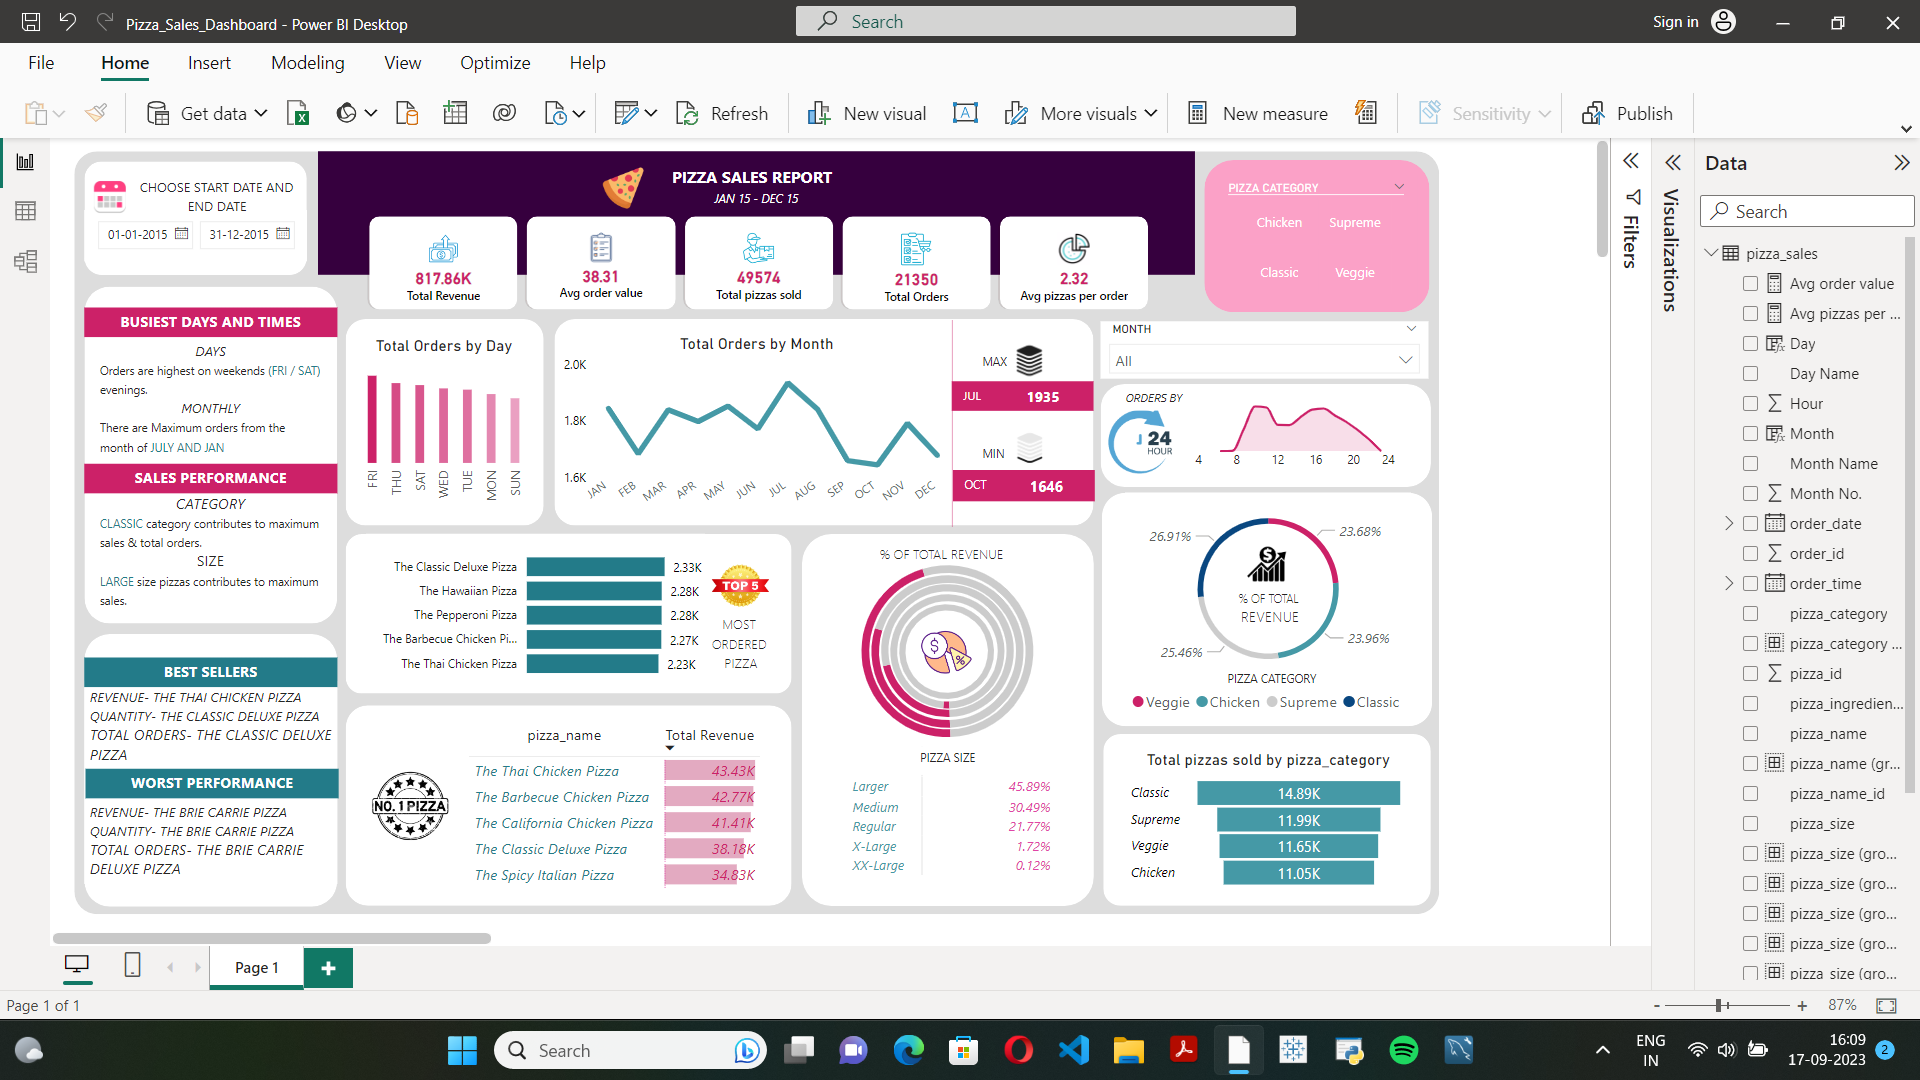

Layout of this report page (visuals, bound fields, positions):
{"tool":"powerbi","page":{"name":"Page 1","canvas":[5000,5000],"ordinal":0},"visuals":[{"type":"shape","box":[23.2,24.8,1255,701.2],"z":0},{"type":"shape","box":[246.9,24.8,806.2,113.8],"z":1000},{"type":"cardVisual","fields":{"Data":["pizza_sales.Total Revenue","pizza_sales.Avg order value","pizza_sales.Total pizzas sold","pizza_sales.Total Orders","pizza_sales.Avg pizzas per order"]},"box":[291.7,82.8,725,90],"z":2000},{"type":"textbox","box":[246.7,32.8,806.2,48.8],"z":3000},{"type":"shape","box":[271.9,179.8,182.5,190],"z":4000},{"type":"ribbonChart","fields":{"Y":["pizza_sales.Total Orders"],"Category":["pizza_sales.Day"]},"box":[279.4,194.8,167.5,161.2],"z":5000},{"type":"shape","box":[464.4,179.8,496.2,190],"z":6000},{"type":"lineChart","title":"Total Orders by Month","fields":{"Category":["pizza_sales.Month"],"Y":["pizza_sales.Total Orders"]},"box":[471.9,193.6,357.5,161.2],"z":7000},{"type":"textbox","box":[853.2,203.6,47.5,32.5],"z":8000},{"type":"textbox","box":[853.2,288.6,46.2,37.5],"z":9000},{"type":"image","box":[880.7,277.3,42.5,43.8],"z":10000},{"type":"image","box":[879.4,196.1,42.5,43.8],"z":11000},{"type":"shape","box":[807.9,181,44.5,190],"z":12000},{"type":"funnel","title":"Total Orders by Month","fields":{"Category":["pizza_sales.Month"],"Y":["pizza_sales.Total Orders"]},"box":[830.4,236.6,130,27.5],"z":13000},{"type":"funnel","title":"Total Orders by Month","fields":{"Category":["pizza_sales.Month"],"Y":["pizza_sales.Total Orders"]},"box":[830.7,318.6,130,28.8],"z":14000},{"type":"shape","box":[967,239.3,303.8,95],"z":15000},{"type":"textbox","box":[1021.2,299.1,241,20],"z":16000},{"type":"stackedAreaChart","fields":{"Category":["pizza_sales.Hour"],"Y":["pizza_sales.Total Orders"]},"box":[1021.2,245.9,250,60.6],"z":17000},{"type":"image","box":[967.1,234.3,71.4,112.9],"z":18000},{"type":"textbox","box":[979.3,241,72.5,22.5],"z":19000},{"type":"shape","box":[967.9,339.4,303.8,215],"z":20000},{"type":"donutChart","title":"Total Revenue","fields":{"Y":["pizza_sales.Total Revenue"],"Category":["pizza_sales.pizza_category"]},"box":[989.4,338.9,262.5,206.2],"z":21000},{"type":"textbox","box":[1078.2,500.1,105,18.8],"z":22000},{"type":"textbox","box":[1061.9,426.4,121.2,55],"z":23000},{"type":"shape","box":[691.9,377.3,268.8,342],"z":24000},{"type":"donutChart","title":"Total Revenue","fields":{"Y":["pizza_sales.Total Revenue"],"Category":["pizza_sales.pizza_size (groups) 4"]},"box":[701.9,386.1,247.5,197.5],"z":25000},{"type":"donutChart","title":"Total Revenue","fields":{"Y":["pizza_sales.Total Revenue"],"Series":["pizza_sales.pizza_size (groups) 5"]},"box":[700.7,397.3,250,175],"z":26000},{"type":"donutChart","title":"Total Revenue","fields":{"Y":["pizza_sales.Total Revenue"],"Category":["pizza_sales.pizza_size (groups) 2"]},"box":[700.7,408.6,250,152.5],"z":27000},{"type":"donutChart","title":"Total Revenue","fields":{"Y":["pizza_sales.Total Revenue"],"Category":["pizza_sales.pizza_size (groups) 3"]},"box":[701.9,419.8,247.5,131.2],"z":28000},{"type":"tableEx","fields":{"Values":["pizza_sales.pizza_size","pizza_sales.Total Revenue"]},"box":[713.2,572.3,236.2,126.2],"z":29000},{"type":"donutChart","title":"Total Revenue","fields":{"Y":["pizza_sales.Total Revenue"],"Category":["pizza_sales.pizza_size (groups) 6"],"Series":["pizza_sales.pizza_size"]},"box":[690.7,431.1,268.8,108.8],"z":30000},{"type":"textbox","box":[701.9,572.3,247.5,26.2],"z":31000},{"type":"textbox","box":[744.4,386.1,151.2,33.8],"z":32000},{"type":"shape","box":[968.6,561.4,301.4,158.6],"z":33000},{"type":"funnel","fields":{"Category":["pizza_sales.pizza_category"],"Y":["pizza_sales.Total pizzas sold"]},"box":[990,572.9,262.9,134.3],"z":34000},{"type":"shape","box":[271.9,377.3,410,147.5],"z":35000},{"type":"barChart","title":"TOP 05 Most ordered pizza","fields":{"Category":["pizza_sales.pizza_name"],"Y":["pizza_sales.Total Orders"]},"box":[291.9,377.3,310,137.5],"z":36000},{"type":"image","box":[1073.2,383.9,92.5,43.8],"z":37000},{"type":"image","box":[794.4,458.6,61.2,56.2],"z":38000},{"type":"textbox","box":[601.9,451.1,67.5,73.8],"z":39000},{"type":"image","box":[601.9,397.3,67.5,53.8],"z":40000},{"type":"shape","box":[271.9,534.8,410,185],"z":41000},{"type":"tableEx","fields":{"Values":["pizza_sales.pizza_name","pizza_sales.Total Revenue"]},"box":[385.4,540.3,283.8,167.5],"z":42000},{"type":"image","box":[291.9,587.3,81.2,78.8],"z":43000},{"type":"shape","box":[31.7,149.1,232.5,310],"z":44000},{"type":"textbox","box":[41.7,194.1,213.8,256.2],"z":45000},{"type":"textbox","box":[31.7,312.8,232.5,27.5],"z":46000},{"type":"textbox","box":[31.7,169.1,232.5,27.5],"z":47000},{"type":"shape","box":[1061.7,32.8,207.5,140],"z":48000},{"type":"slicer","fields":{"Values":["pizza_sales.pizza_category"]},"box":[1071.7,46.6,187.5,116.2],"z":49000},{"type":"image","box":[495.4,34.1,65,48.8],"z":50000},{"type":"shape","box":[31.7,34.1,205,105],"z":51000},{"type":"slicer","fields":{"Values":["pizza_sales.order_date"]},"box":[31.7,79.1,205,47.5],"z":52000},{"type":"image","box":[31.7,46.6,46.2,40],"z":53000},{"type":"textbox","box":[77.9,47.8,152.5,40],"z":54000},{"type":"shape","box":[31.7,469.1,232.5,251.2],"z":55000},{"type":"textbox","box":[31.7,512.8,232.5,186.2],"z":56000},{"type":"textbox","box":[32.9,592.8,232.5,27.5],"z":57000},{"type":"textbox","box":[31.7,490.3,232.5,27.5],"z":58000},{"type":"slicer","fields":{"Values":["pizza_sales.Month"]},"box":[967.1,181.4,301.4,52.9],"z":58001}]}

Visuals, with their boxes on the page's 5000x5000 design canvas (x1, y1, x2, y2). These are canvas units, not pixel positions in the 1920x1080 screenshot, which may show the page scaled, cropped or inside an application window:
shape: crop(23, 25, 1278, 726)
shape: crop(247, 25, 1053, 139)
cardVisual - pizza_sales.Total Revenue x pizza_sales.Avg order value: crop(292, 83, 1017, 173)
textbox: crop(247, 33, 1053, 82)
shape: crop(272, 180, 454, 370)
ribbonChart - pizza_sales.Total Orders x pizza_sales.Day: crop(279, 195, 447, 356)
shape: crop(464, 180, 961, 370)
"Total Orders by Month" lineChart: crop(472, 194, 829, 355)
textbox: crop(853, 204, 901, 236)
textbox: crop(853, 289, 899, 326)
image: crop(881, 277, 923, 321)
image: crop(879, 196, 922, 240)
shape: crop(808, 181, 852, 371)
"Total Orders by Month" funnel: crop(830, 237, 960, 264)
"Total Orders by Month" funnel: crop(831, 319, 961, 347)
shape: crop(967, 239, 1271, 334)
textbox: crop(1021, 299, 1262, 319)
stackedAreaChart - pizza_sales.Hour x pizza_sales.Total Orders: crop(1021, 246, 1271, 306)
image: crop(967, 234, 1038, 347)
textbox: crop(979, 241, 1052, 264)
shape: crop(968, 339, 1272, 554)
"Total Revenue" donutChart: crop(989, 339, 1252, 545)
textbox: crop(1078, 500, 1183, 519)
textbox: crop(1062, 426, 1183, 481)
shape: crop(692, 377, 961, 719)
"Total Revenue" donutChart: crop(702, 386, 949, 584)
"Total Revenue" donutChart: crop(701, 397, 951, 572)
"Total Revenue" donutChart: crop(701, 409, 951, 561)
"Total Revenue" donutChart: crop(702, 420, 949, 551)
tableEx - pizza_sales.pizza_size x pizza_sales.Total Revenue: crop(713, 572, 949, 698)
"Total Revenue" donutChart: crop(691, 431, 960, 540)
textbox: crop(702, 572, 949, 598)
textbox: crop(744, 386, 896, 420)
shape: crop(969, 561, 1270, 720)
funnel - pizza_sales.pizza_category x pizza_sales.Total pizzas sold: crop(990, 573, 1253, 707)
shape: crop(272, 377, 682, 525)
"TOP 05 Most ordered pizza" barChart: crop(292, 377, 602, 515)
image: crop(1073, 384, 1166, 428)
image: crop(794, 459, 856, 515)
textbox: crop(602, 451, 669, 525)
image: crop(602, 397, 669, 451)
shape: crop(272, 535, 682, 720)
tableEx - pizza_sales.pizza_name x pizza_sales.Total Revenue: crop(385, 540, 669, 708)
image: crop(292, 587, 373, 666)
shape: crop(32, 149, 264, 459)
textbox: crop(42, 194, 256, 450)
textbox: crop(32, 313, 264, 340)
textbox: crop(32, 169, 264, 197)
shape: crop(1062, 33, 1269, 173)
slicer - pizza_sales.pizza_category: crop(1072, 47, 1259, 163)
image: crop(495, 34, 560, 83)
shape: crop(32, 34, 237, 139)
slicer - pizza_sales.order_date: crop(32, 79, 237, 127)
image: crop(32, 47, 78, 87)
textbox: crop(78, 48, 230, 88)
shape: crop(32, 469, 264, 720)
textbox: crop(32, 513, 264, 699)
textbox: crop(33, 593, 265, 620)
textbox: crop(32, 490, 264, 518)
slicer - pizza_sales.Month: crop(967, 181, 1268, 234)
